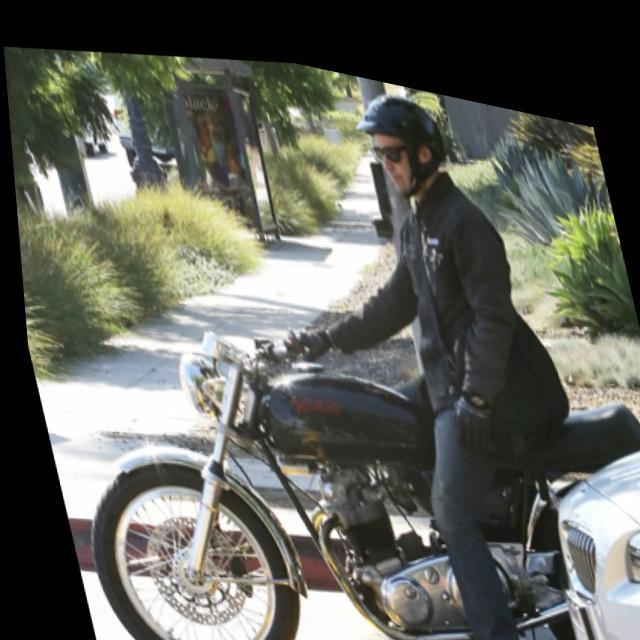Helmet: (350, 85, 458, 201)
